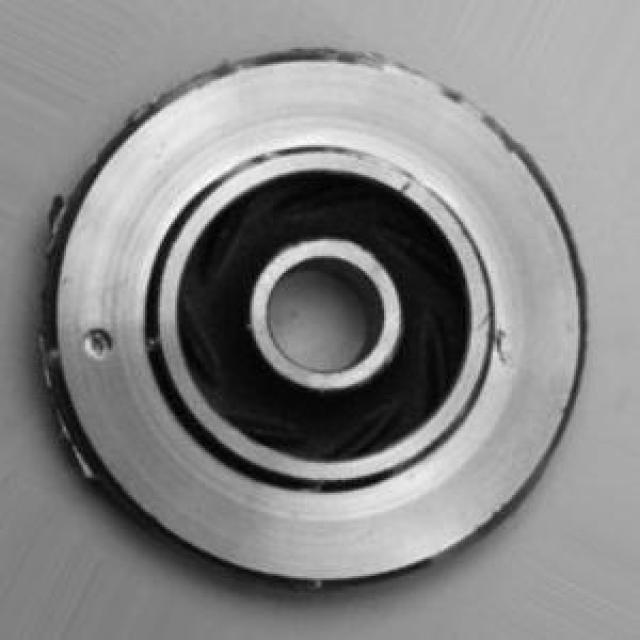Defect: (71, 321, 112, 364)
